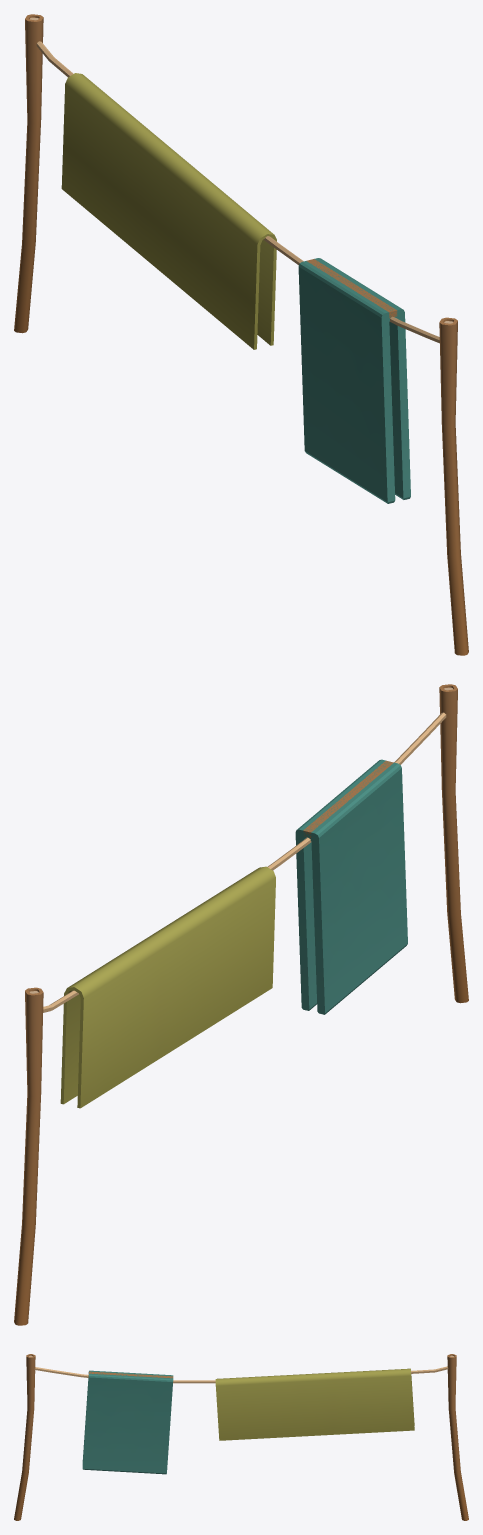
Rendered from ClothesLine.fbx.
The picture shows the model from 3 angles, top to bottom: view 1: azimuth 30°, elevation 25°; view 2: azimuth 150°, elevation 25°; view 3: azimuth 270°, elevation 25°; orthographic projection. The views are drawn at different scales.
Visible parts, largest first — view 1: ClothesLine; view 2: ClothesLine; view 3: ClothesLine.
Part boxes in pixels (bbox=[...]): ClothesLine: bbox=[14, 14, 468, 655]; ClothesLine: bbox=[14, 684, 468, 1325]; ClothesLine: bbox=[14, 1354, 468, 1520].
Bounding box in the file's own units: 0.1594 × 5.28 × 2.09.
